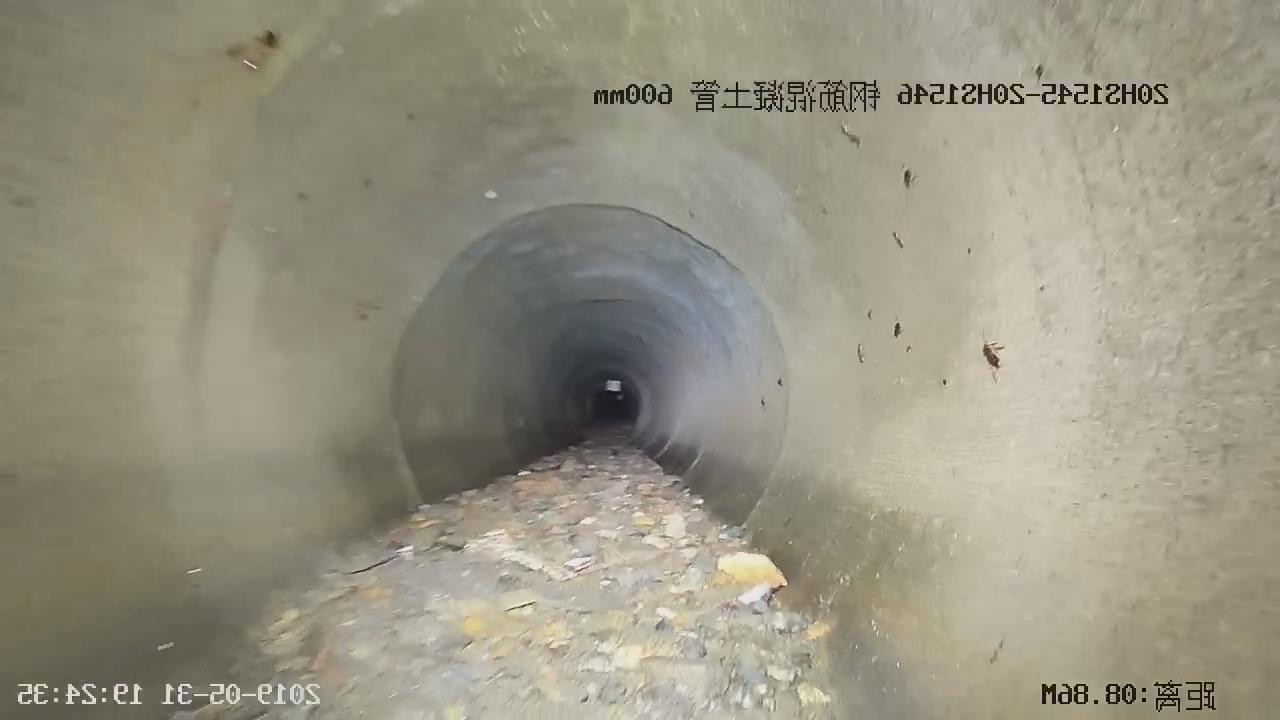CJ: (253, 433, 832, 719)
CKTJ: (376, 195, 799, 546)
